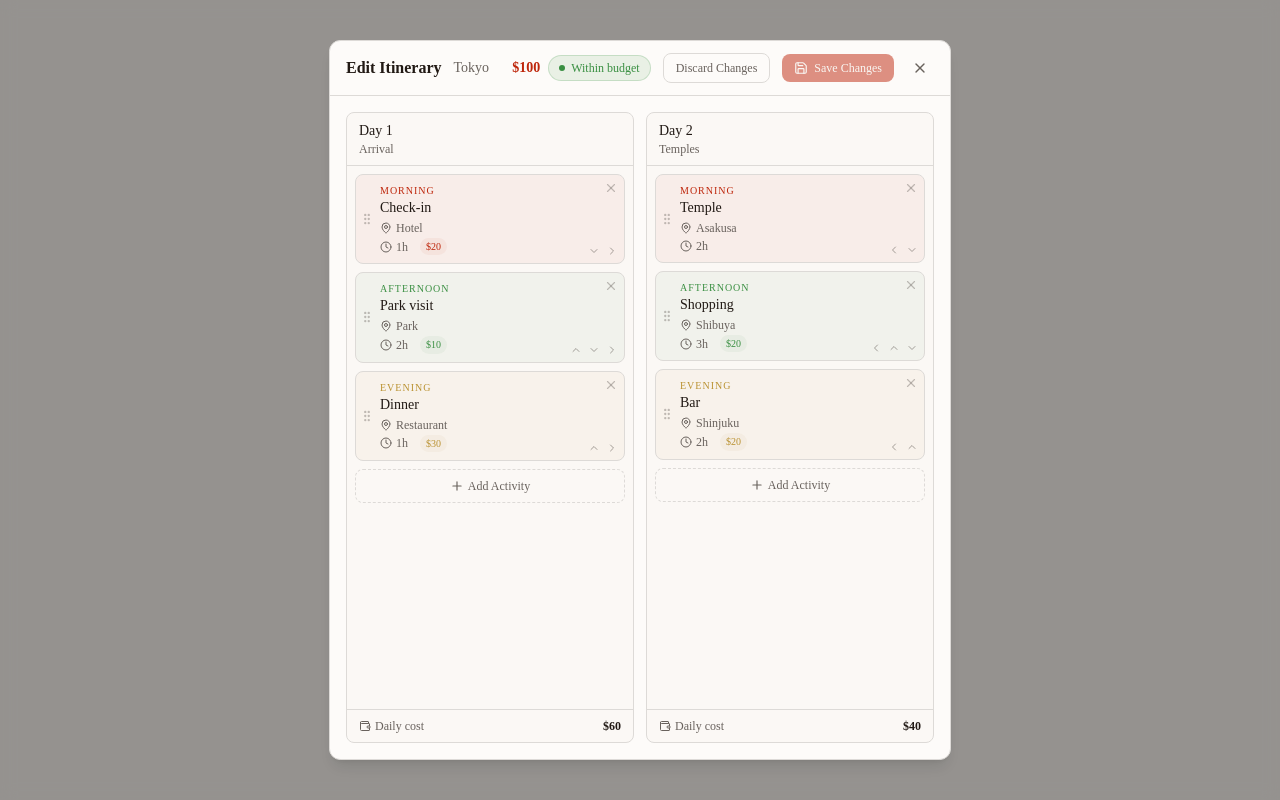
Test: ItineraryEditor › closes discard confirmation when Cancel is clicked
The image size is (1280, 800).
Click the 1st button named "Remove Activity" at (611, 188), box [602,179,620,197]
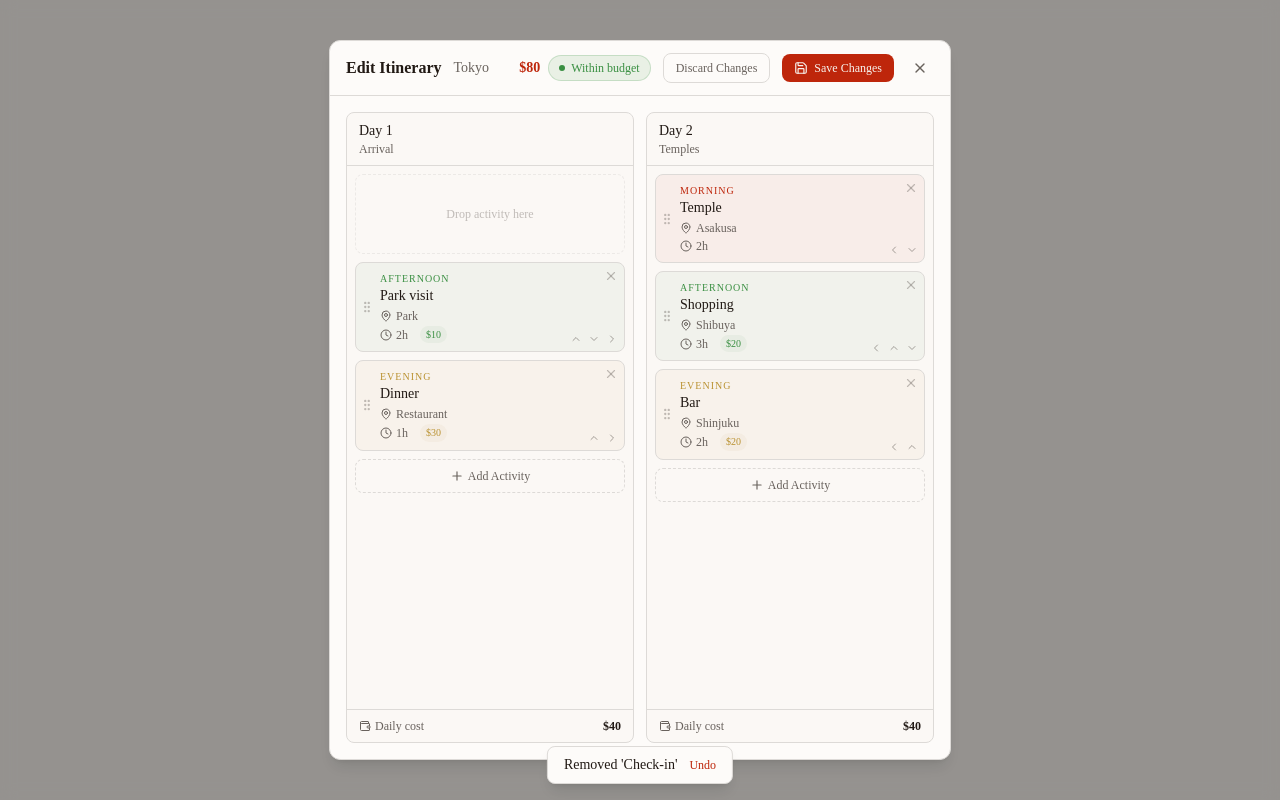
Click the button "Discard Changes" at (717, 68), box [663,53,770,83]
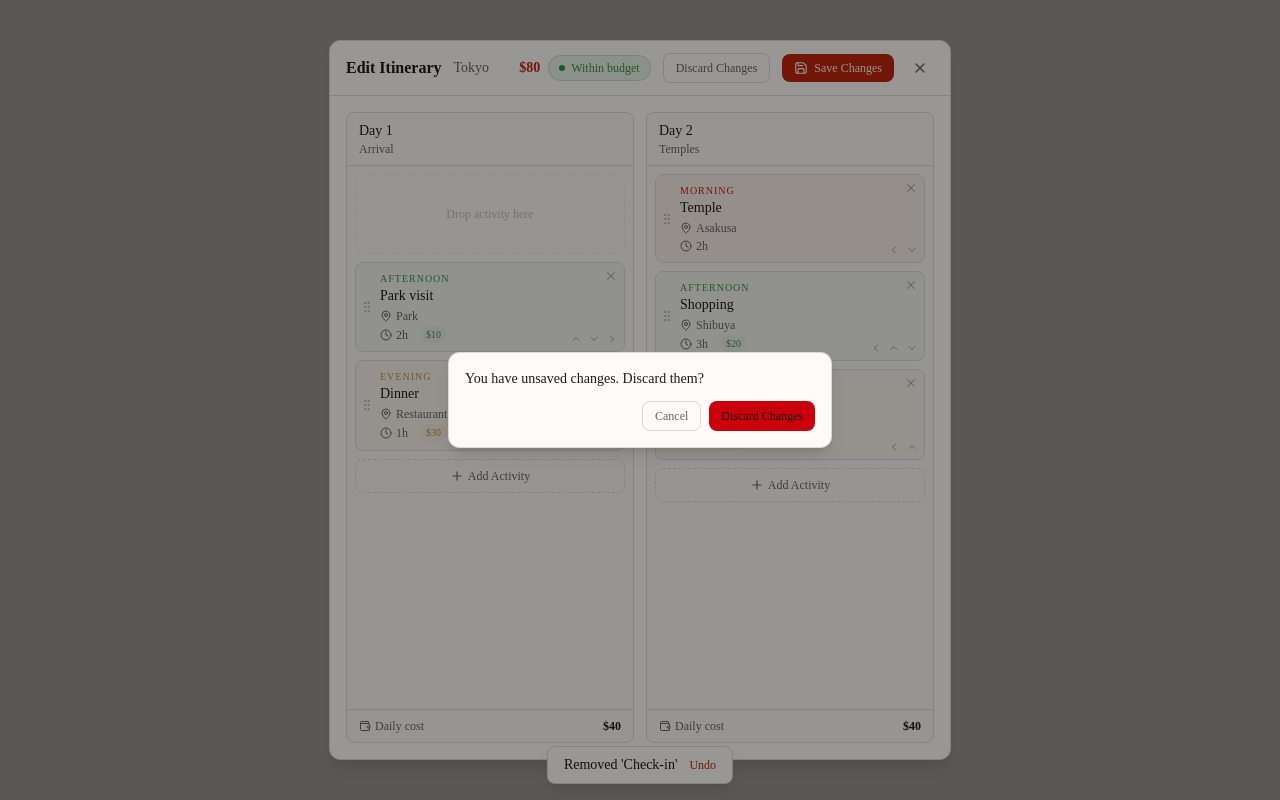
Check: the text "You have unsaved changes. Discard them?" is shown, box [465,371,704,386]
Click the button "Cancel" at (672, 416), box [642,401,701,431]
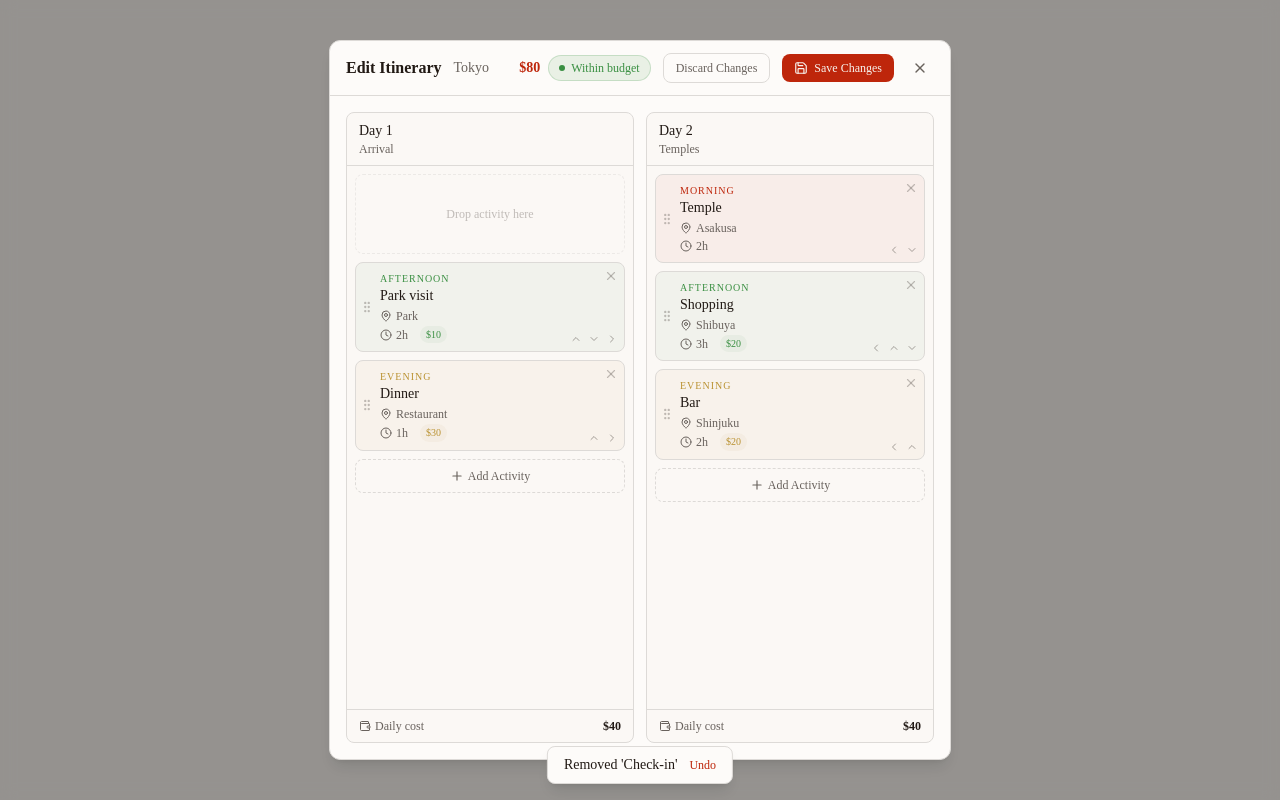
Check: the text "You have unsaved changes. Discard them?" is gone
